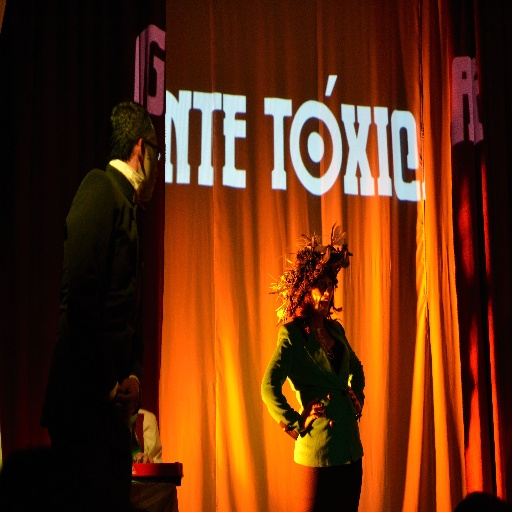hand: (114, 376, 140, 422), (301, 398, 325, 433), (348, 385, 361, 419), (102, 378, 118, 404), (131, 451, 155, 465)
